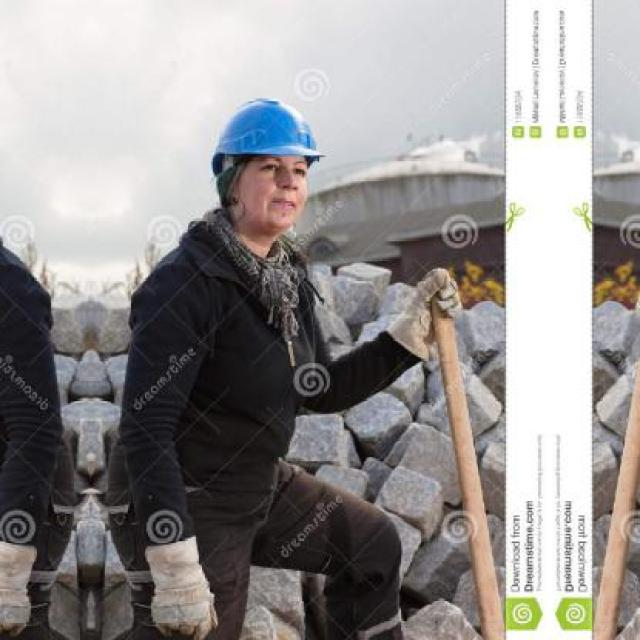helmet: (199, 76, 333, 247)
